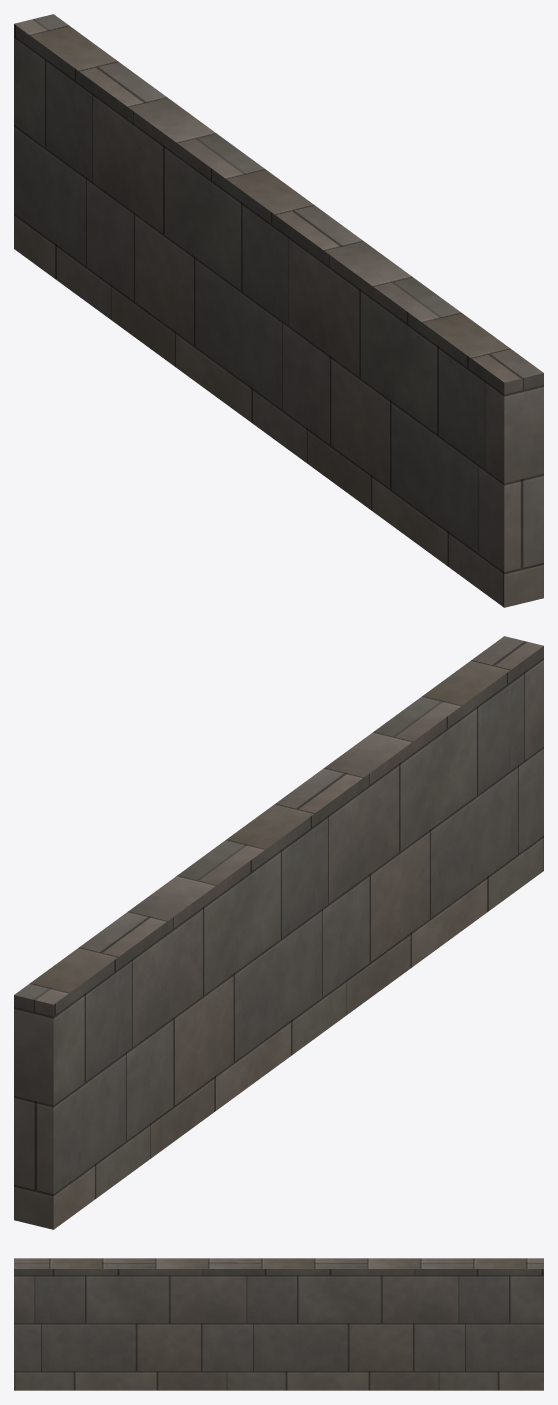
3 views of the same model, one above another, from view 1: azimuth 30°, elevation 25°; view 2: azimuth 150°, elevation 25°; view 3: azimuth 270°, elevation 25° (orthographic). The views are drawn at different scales.
Visible parts, largest first — view 1: 东鼓台 · 西壁; view 2: 东鼓台 · 西壁; view 3: 东鼓台 · 西壁.
Part boxes in pixels (x1=…): 东鼓台 · 西壁: x1=14, y1=14, x2=543, y2=607; 东鼓台 · 西壁: x1=14, y1=636, x2=543, y2=1229; 东鼓台 · 西壁: x1=14, y1=1258, x2=543, y2=1390.
Bounding box in the file's own units: 0.7 × 3.8 × 15.
Materials: 1 (1 with a texture image).
